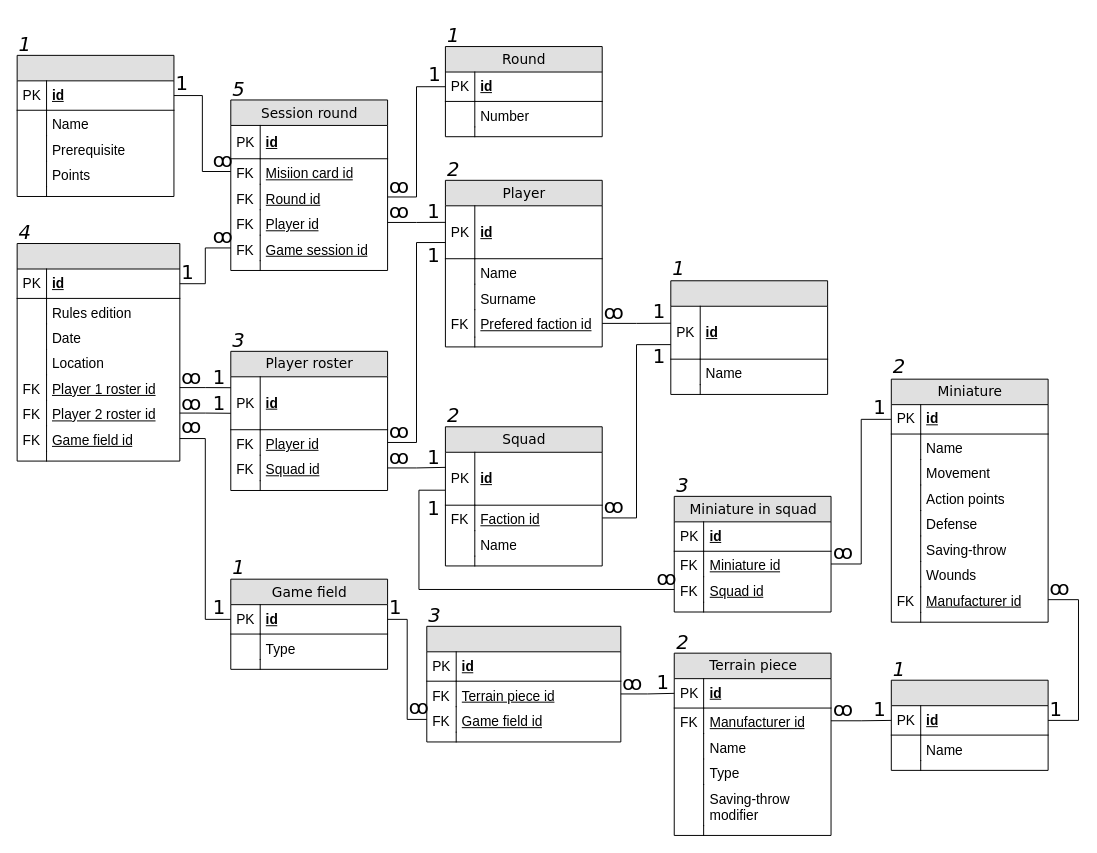
Image size: 1097x853. Some labels were removed from this diagram. The box of each missing label's shape, as (x1, y1, x2, y2) in pixels:
Faction: (670, 280, 828, 394)
Field terrain: (426, 625, 621, 742)
Game session: (16, 243, 180, 461)
Manufacturer: (890, 679, 1048, 770)
Mission card: (16, 54, 174, 196)
